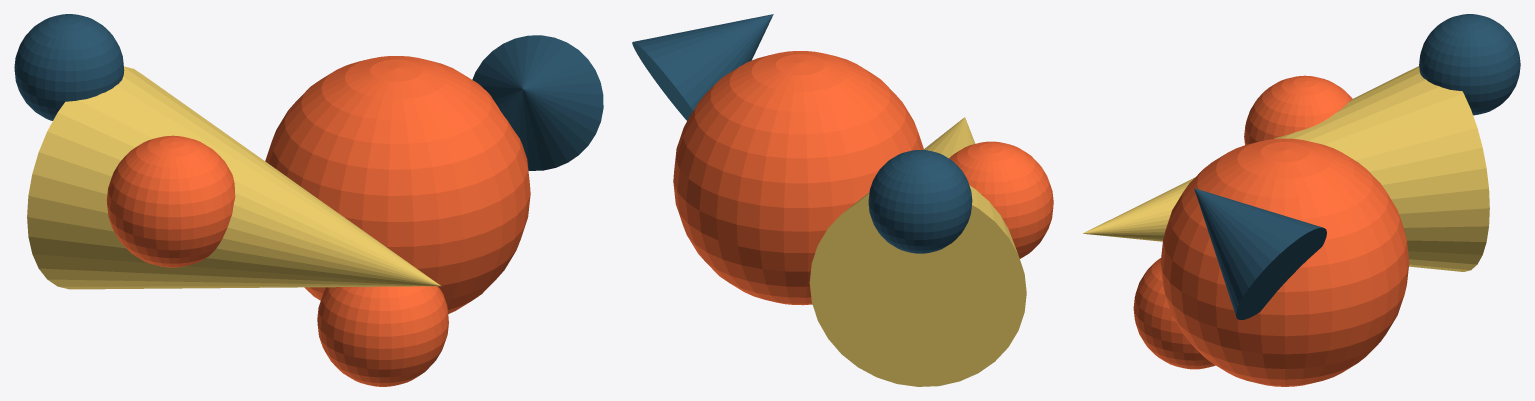
The model's file is blob.gltf.
The picture shows the model from 3 angles, left to right: view 1: azimuth 30°, elevation 25°; view 2: azimuth 150°, elevation 25°; view 3: azimuth 270°, elevation 25°; orthographic projection. The views are drawn at different scales.
Parts seen in each view (by area): view 1: Sphere, Cone.001, Sphere.003, Cone, Sphere.001, Sphere.002; view 2: Sphere, Cone.001, Sphere.002, Cone, Sphere.003; view 3: Sphere, Cone.001, Cone, Sphere.002, Sphere.003, Sphere.001.
Part boxes in pixels (<box>): Sphere: <box>265,56,530,313</box>; Cone.001: <box>27,66,441,289</box>; Sphere.003: <box>106,135,235,267</box>; Cone: <box>472,35,603,170</box>; Sphere.001: <box>317,286,448,386</box>; Sphere.002: <box>14,14,124,120</box>; Sphere: <box>673,51,923,305</box>; Cone.001: <box>809,117,1026,386</box>; Sphere.002: <box>868,150,972,253</box>; Cone: <box>632,14,773,120</box>; Sphere.003: <box>949,141,1053,258</box>; Sphere: <box>1160,138,1409,386</box>; Cone.001: <box>1083,66,1489,271</box>; Cone: <box>1194,188,1326,319</box>; Sphere.002: <box>1419,14,1520,115</box>; Sphere.003: <box>1244,75,1352,144</box>; Sphere.001: <box>1133,258,1215,369</box>.
Bounding box in the file's own units: 8.62 × 4.9 × 7.19.
